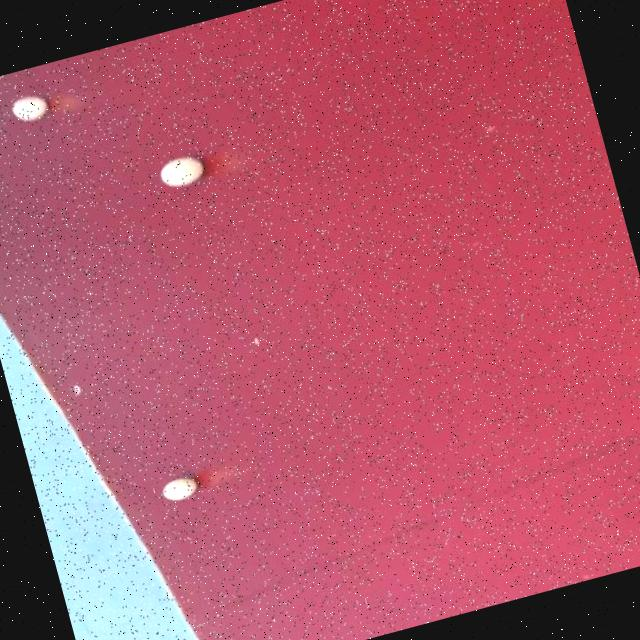ping-pong-ball: (152, 146, 214, 193), (154, 470, 206, 507), (7, 88, 54, 126)
